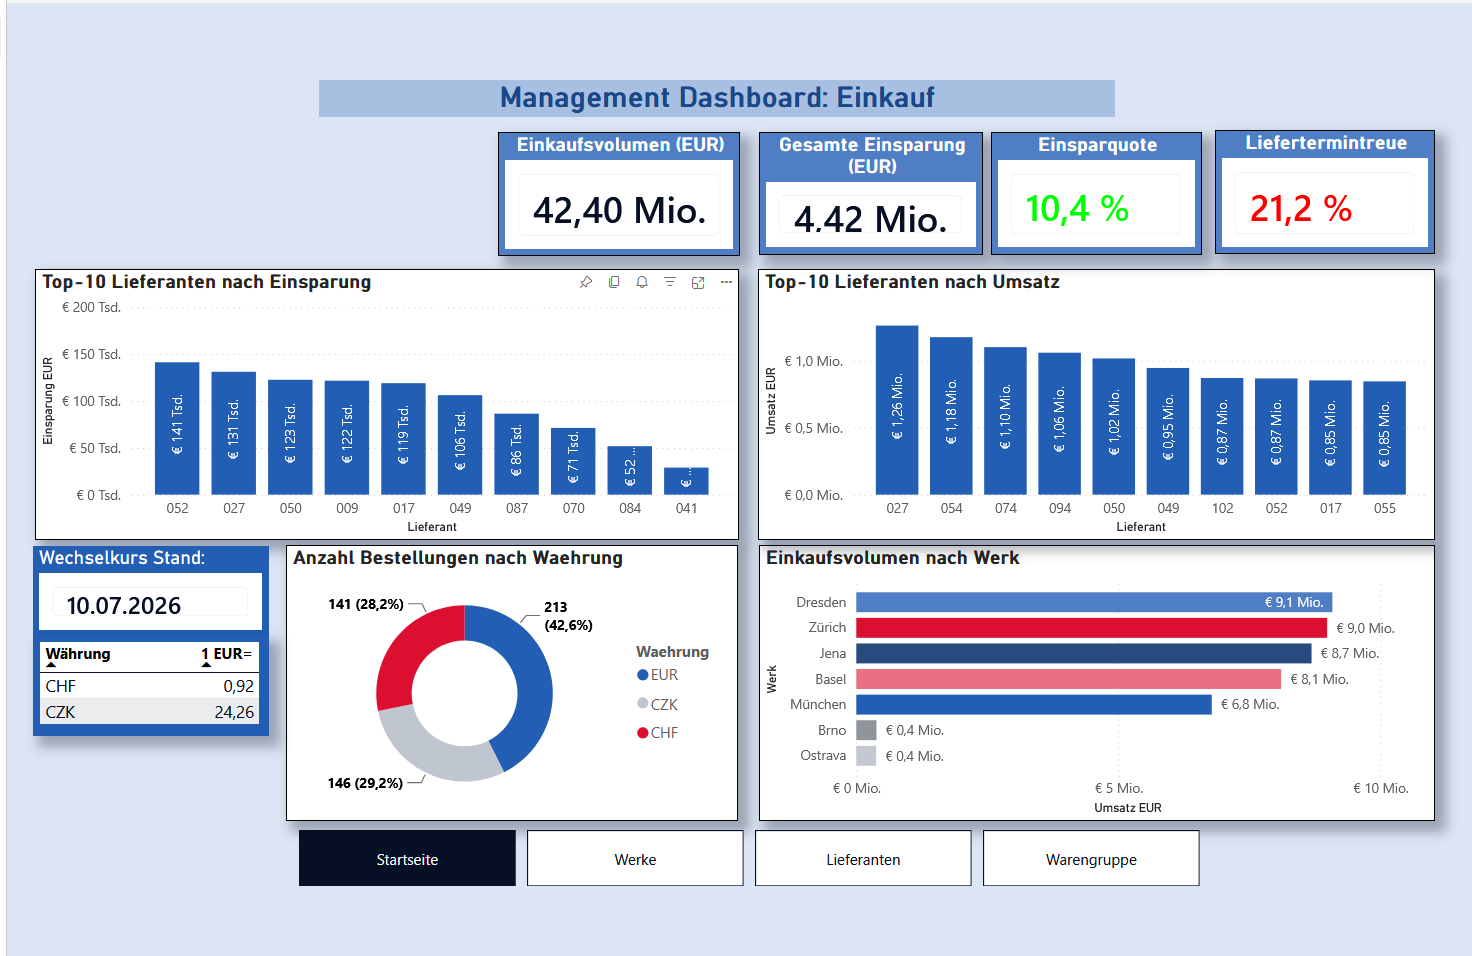

This screenshot's page, from the dashboard's own definition file:
{"tool":"powerbi","page":{"name":"Startseite","canvas":[1280,720],"ordinal":0},"visuals":[{"type":"cardVisual","title":"Einkaufsvolumen (EUR)","fields":{"Data":["Einkaufsdaten.Gesamt Einkaufsvolumen EUR"]},"box":[425.7,51.4,214.3,110],"z":0},{"type":"textbox","title":"Management Dashboard: Einkauf","box":[267.5,5,705.3,32.3],"z":1000},{"type":"cardVisual","title":"Gesamte Einsparung (EUR)","fields":{"Data":["Einkaufsdaten.Gesamte Einsparung"]},"box":[657.1,51.4,198.6,108.6],"z":2000},{"type":"clusteredBarChart","title":"Einkaufsvolumen nach Werk","fields":{"Category":["Einkaufsdaten.Werk","Einkaufsdaten.Lieferant","Einkaufsdaten.Bestellnummer"],"Y":["Sum(Einkaufsdaten.Bestellwert Euro)"]},"box":[657.1,417.1,598.6,244.3],"z":3000},{"type":"columnChart","title":"Top-10 Lieferanten nach Umsatz","fields":{"Category":["Einkaufsdaten.Lieferant"],"Y":["Sum(Einkaufsdaten.Bestellwert Euro)"]},"box":[656.8,172.9,599.6,240.1],"z":4000},{"type":"columnChart","title":"Top-10 Lieferanten nach Einsparung","fields":{"Category":["Einkaufsdaten.Lieferant"],"Y":["Sum(Einkaufsdaten.Einsparung EUR)"]},"box":[16.2,172.9,623.2,240.1],"z":5000},{"type":"donutChart","fields":{"Category":["Einkaufsdaten.Waehrung"],"Y":["Einkaufsdaten.Anzahl Bestellungen"]},"box":[238.6,417.1,400,244.3],"z":6000},{"type":"pageNavigator","box":[250,670,800,50],"z":7000},{"type":"cardVisual","title":"Wechselkurs Stand:","fields":{"Data":["Wechselkurs.Stand Wechselkurse"]},"box":[14,417.9,208.9,79.9],"z":9000},{"type":"tableEx","fields":{"Values":["Wechselkurs.Währung","Wechselkurs.Einheiten pro EUR"]},"box":[14,497.8,208.9,88.3],"z":10000},{"type":"cardVisual","title":"Einsparquote","fields":{"Data":["Einkaufsdaten.Einsparquote"]},"box":[862.9,51.4,187.1,108.6],"z":11000},{"type":"cardVisual","title":"Liefertermintreue","fields":{"Data":["Einkaufsdaten.Liefertermintreue"]},"box":[1061.2,50,195,110],"z":12000}]}

Visuals, with their boxes in screenshot pixels (x1, y1, x2, y2):
"Einkaufsvolumen (EUR)" cardVisual: bbox(490, 127, 733, 252)
"Management Dashboard: Einkauf" textbox: bbox(311, 75, 1111, 111)
"Gesamte Einsparung (EUR)" cardVisual: bbox(753, 127, 978, 250)
"Einkaufsvolumen nach Werk" clusteredBarChart: bbox(753, 542, 1432, 819)
"Top-10 Lieferanten nach Umsatz" columnChart: bbox(753, 265, 1433, 537)
"Top-10 Lieferanten nach Einsparung" columnChart: bbox(26, 265, 733, 537)
donutChart - Einkaufsdaten.Waehrung x Einkaufsdaten.Anzahl Bestellungen: bbox(278, 542, 732, 819)
pageNavigator: bbox(291, 829, 1198, 886)
"Wechselkurs Stand:" cardVisual: bbox(24, 543, 260, 634)
tableEx - Wechselkurs.Währung x Wechselkurs.Einheiten pro EUR: bbox(24, 634, 260, 734)
"Einsparquote" cardVisual: bbox(986, 127, 1198, 250)
"Liefertermintreue" cardVisual: bbox(1211, 126, 1432, 250)
